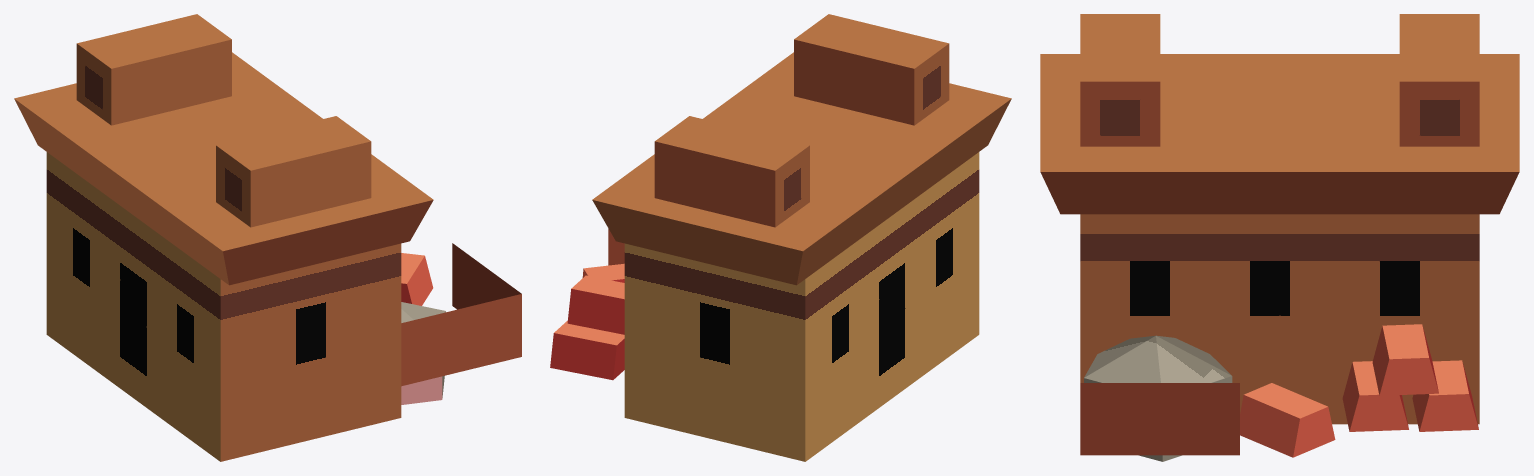
The model's file is desert_house_1.gltf.
3 views of the same model, side by side, from view 1: azimuth 30°, elevation 25°; view 2: azimuth 150°, elevation 25°; view 3: azimuth 270°, elevation 25° (orthographic). The views are drawn at different scales.
Visible parts, largest first — view 1: Desert_house_1, plane (×2), sphere; view 2: Desert_house_1; view 3: Desert_house_1, plane, sphere.
Boxes of the visible parts, x1,y1,x2,y2 form: Desert_house_1: (14, 14, 433, 461); plane (×2): (401, 243, 521, 386); sphere: (401, 302, 445, 404); Desert_house_1: (550, 14, 1011, 461); Desert_house_1: (1040, 14, 1519, 457); plane: (1080, 383, 1239, 455); sphere: (1084, 335, 1232, 461).
Size of the model in its own units: 0.6648 by 0.5625 by 0.75.
1 material, 1 textured.
